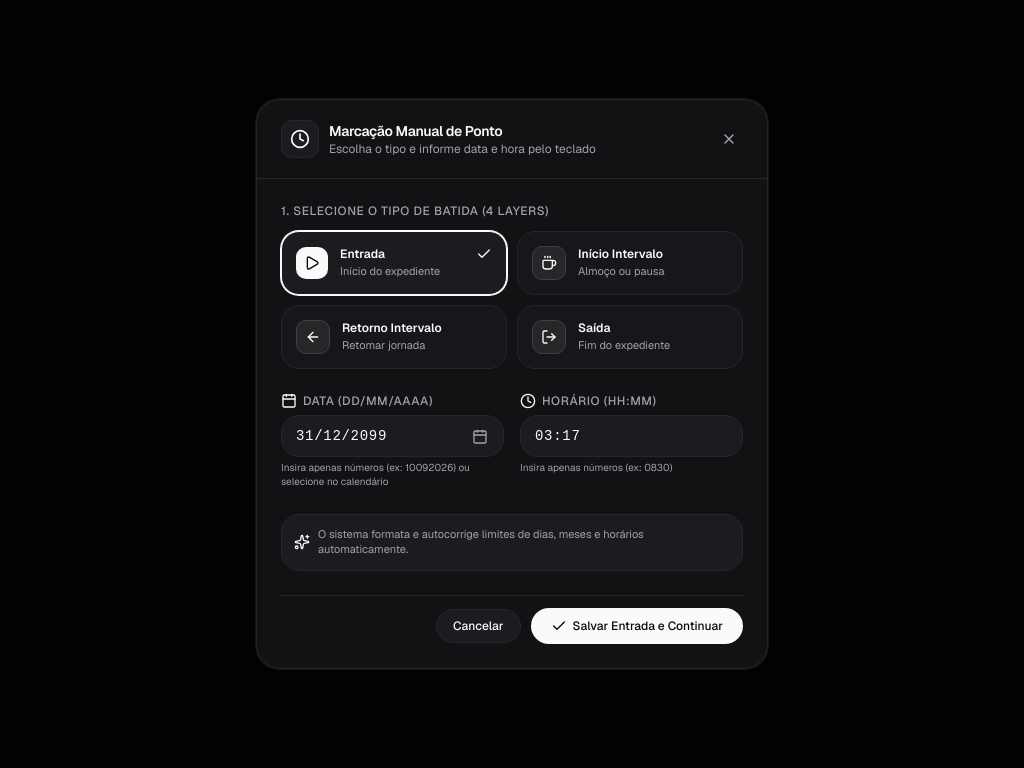
Test: ManualEntryModal Component › blocks submission of future timestamp and shows error message
Note: Try submitting with future date
Click the button "Salvar Entrada e Continuar": (637, 626) [531,608,743,644]
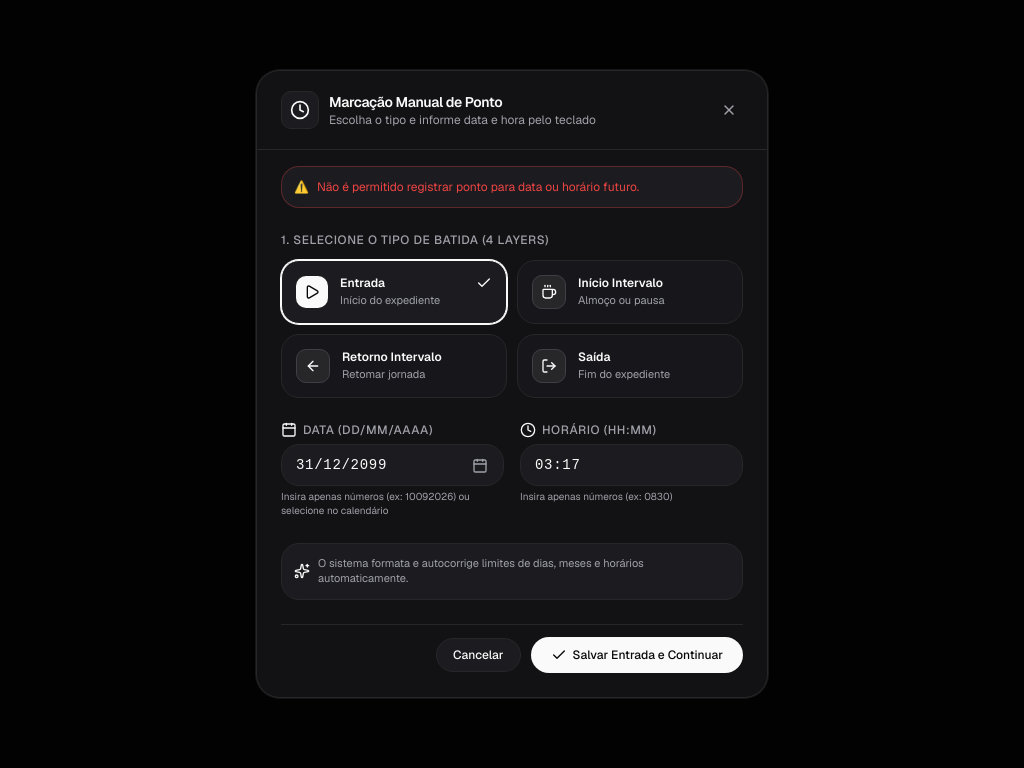
Result: the text "Não é permitido registrar ponto para data ou horário futuro." is shown at [317,179,639,195]
